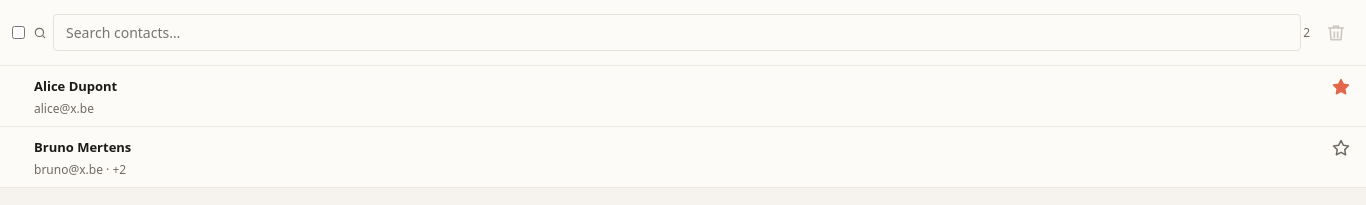
Test: ContactList › filters live as the user types, and updates the count
Type "dupont" into the search field.
click(677, 32); type("dupont")  # box [53,14,1301,51]
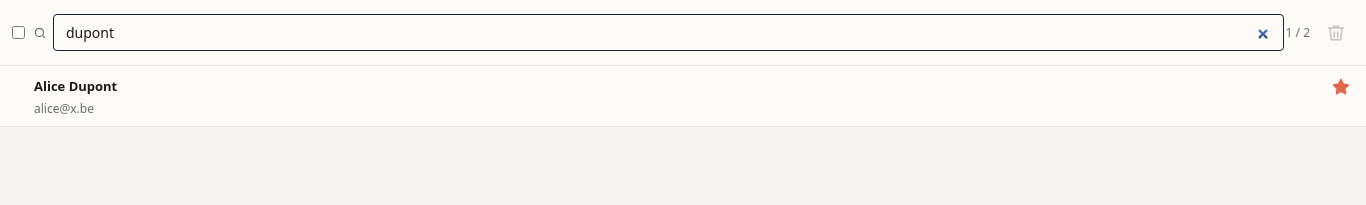
Expected: the text "Alice Dupont" is shown, [34,77,117,95]
Expected: the text "Bruno Mertens" is gone
Expected: the text with test id "contact-count" reads "1 / 2", [1286,24,1310,40]
